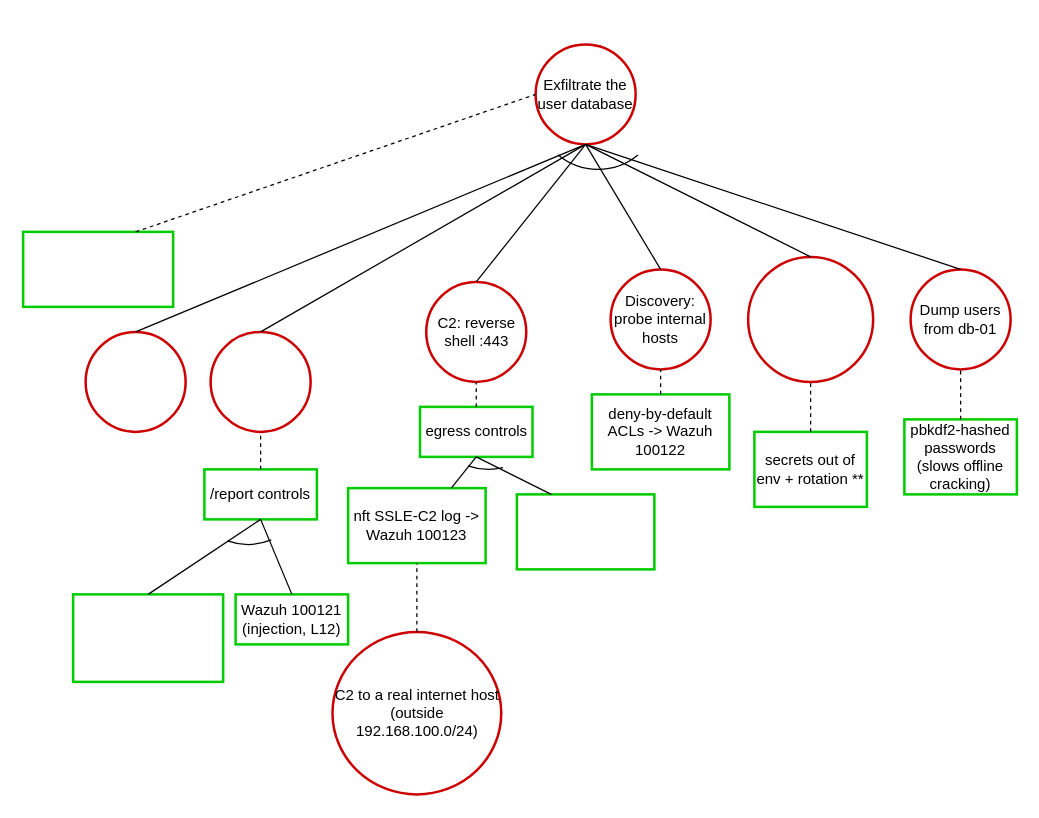
Some shapes in this 1039 by 818 pixel diagram are drawn without their labels. Here are the shapes that lost their labels. From the top down, the centre of each, then its label:
(x=97, y=269): Wazuh 100130 chain alert -> human IR playbook
(x=810, y=318): Read DB_PASSWORD from /proc
(x=135, y=381): Valid operator session (see §5.2)
(x=260, y=381): Code execution injection in /report
(x=585, y=531): egress only via apt proxy **
(x=147, y=637): allow-list ^[a-z0-9-]+$ no shell=True
